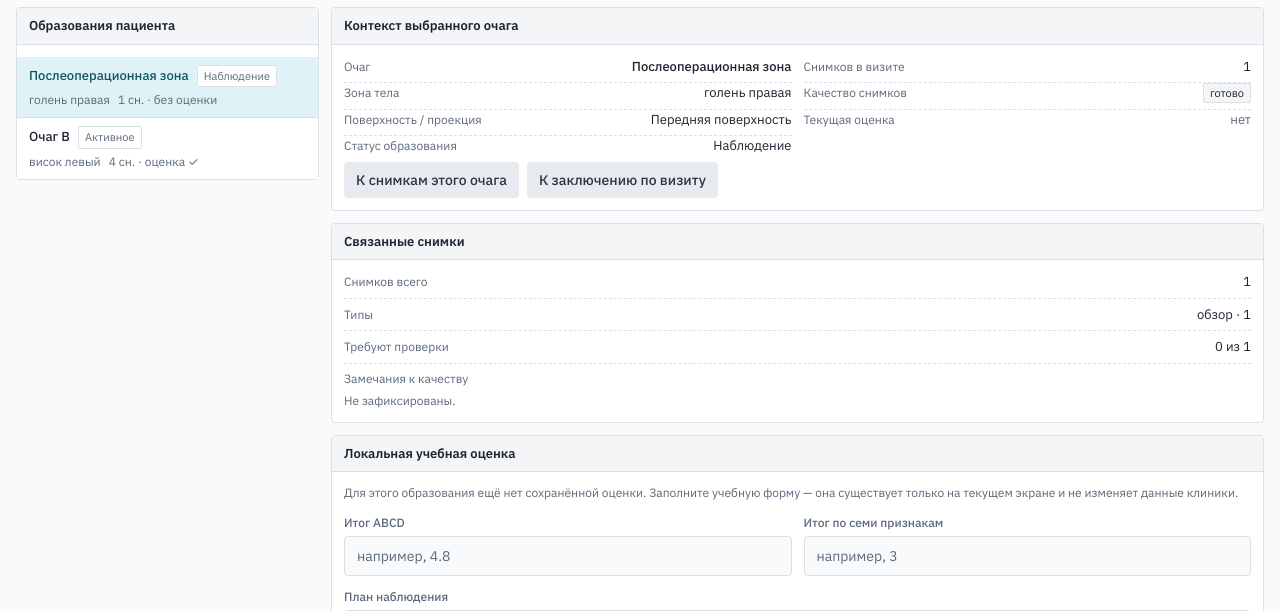
Test: VisitAssessmentTab · local training form for lesion without assessment › 'Сохранить учебную оценку' shows local preview and does not change getAssessmentsByVisitId
In the field labelled "Итог ABCD": (568, 556) [344,536,792,576], type "4.8"
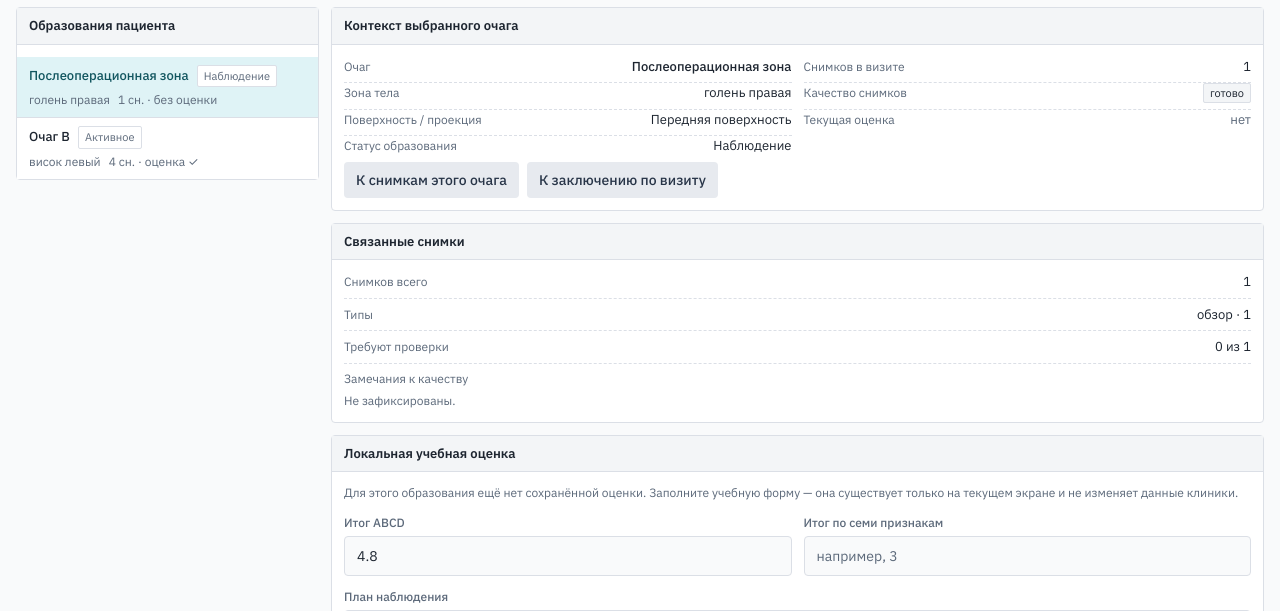
In the field labelled "Итог по семи признакам": (1027, 556) [804,536,1251,576], type "3"
(page scrolled)
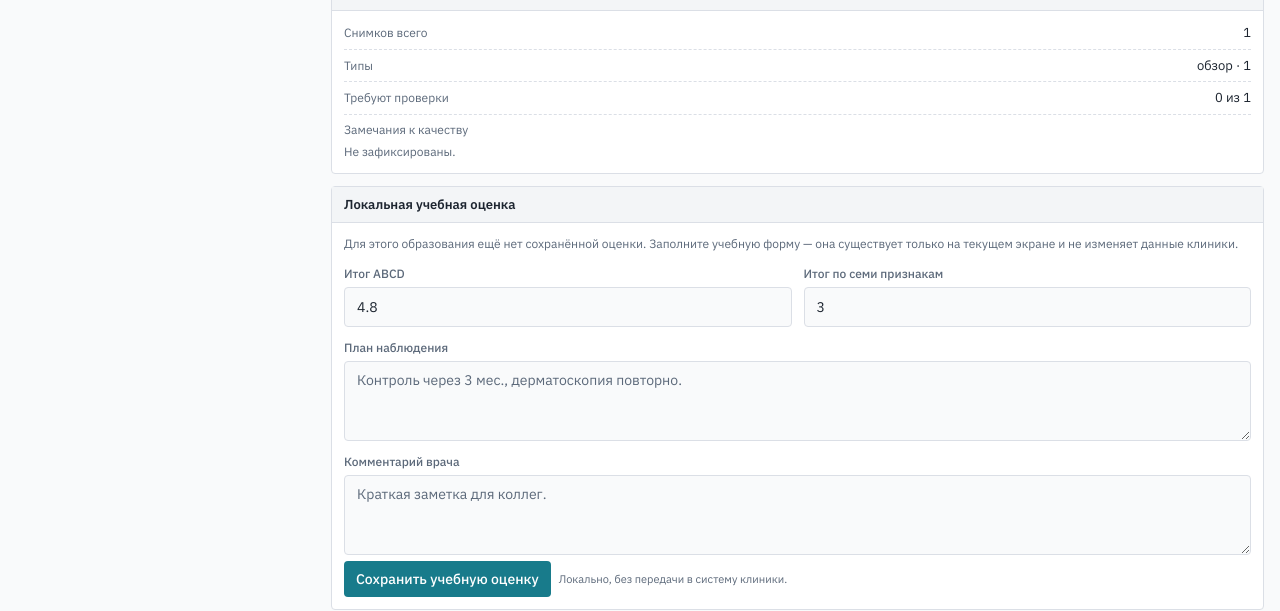
Click the button "Сохранить учебную оценку": (447, 579) [344,561,551,597]
(page scrolled)
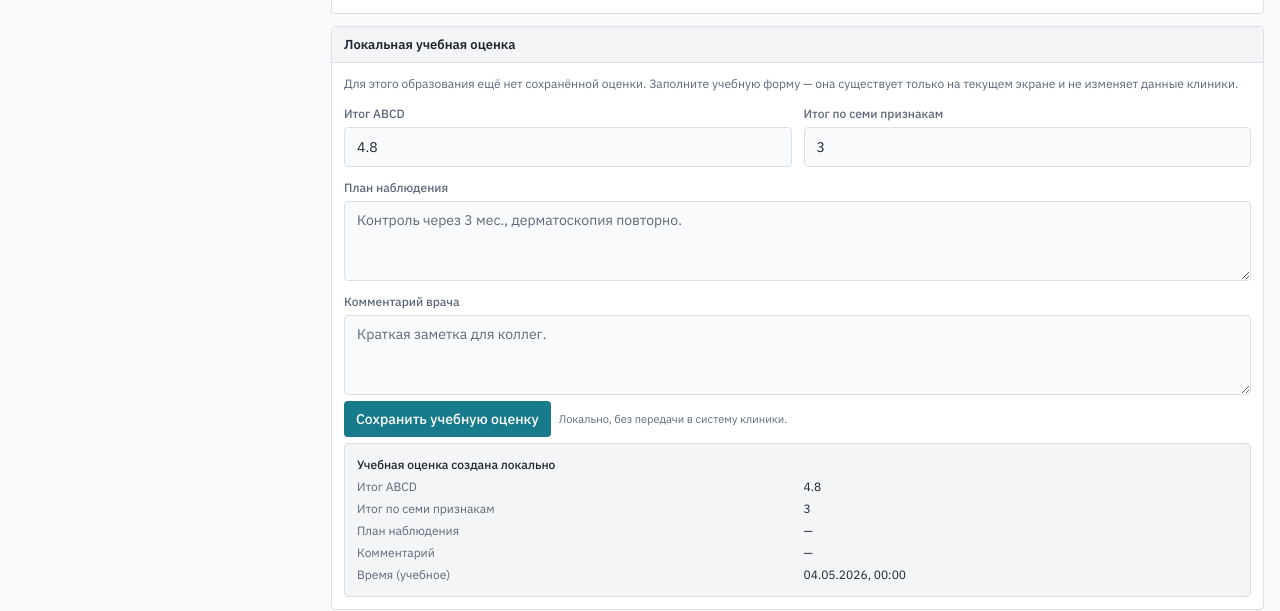
Now the message with test id "demo-assessment-preview" is shown, box [344,443,1251,597]
Now the message with test id "demo-assessment-preview" shows "Учебная оценка создана локально", box [357,457,555,472]
Now the message with test id "demo-assessment-preview" shows "4.8", box [804,479,821,494]
